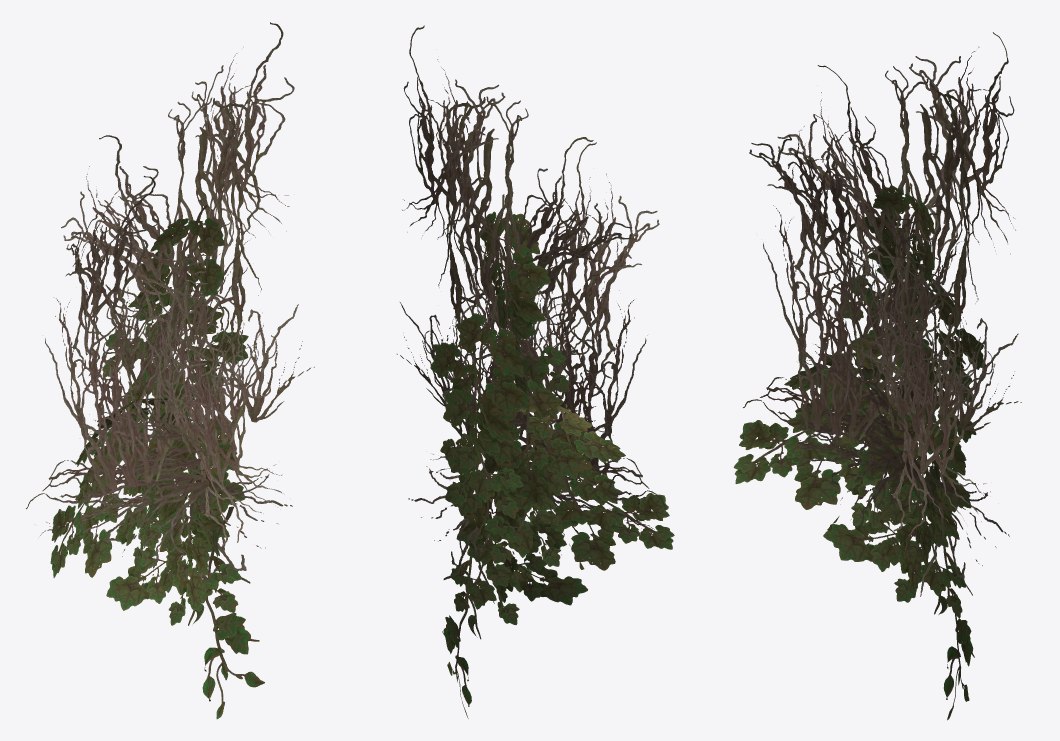
The model's file is SM_Fol_Ivy_Building2.fbx.
3 views of the same model, side by side, from view 1: azimuth 30°, elevation 25°; view 2: azimuth 150°, elevation 25°; view 3: azimuth 330°, elevation 25° (orthographic). The views are drawn at different scales.
Visible parts, largest first — view 1: SM_Fol_Ivy_Building2_LOD0; view 2: SM_Fol_Ivy_Building2_LOD0; view 3: SM_Fol_Ivy_Building2_LOD0.
Part boxes in pixels (x1,y1,x2,y2): SM_Fol_Ivy_Building2_LOD0: (26, 22, 314, 719); SM_Fol_Ivy_Building2_LOD0: (397, 25, 674, 718); SM_Fol_Ivy_Building2_LOD0: (733, 32, 1021, 720).
Size of the model in its own units: 194 by 51.44 by 410.
Materials: 1 (1 with a texture image).
